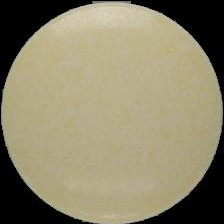54868-2252: (0, 0, 224, 224)
